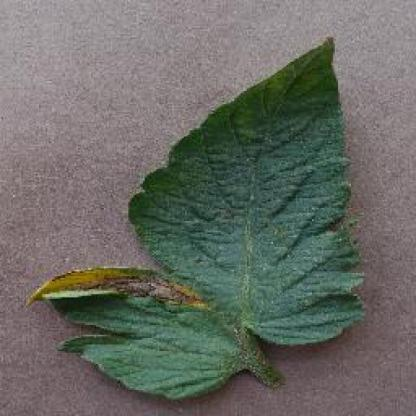Tomato_Blight: (27, 37, 338, 402)
